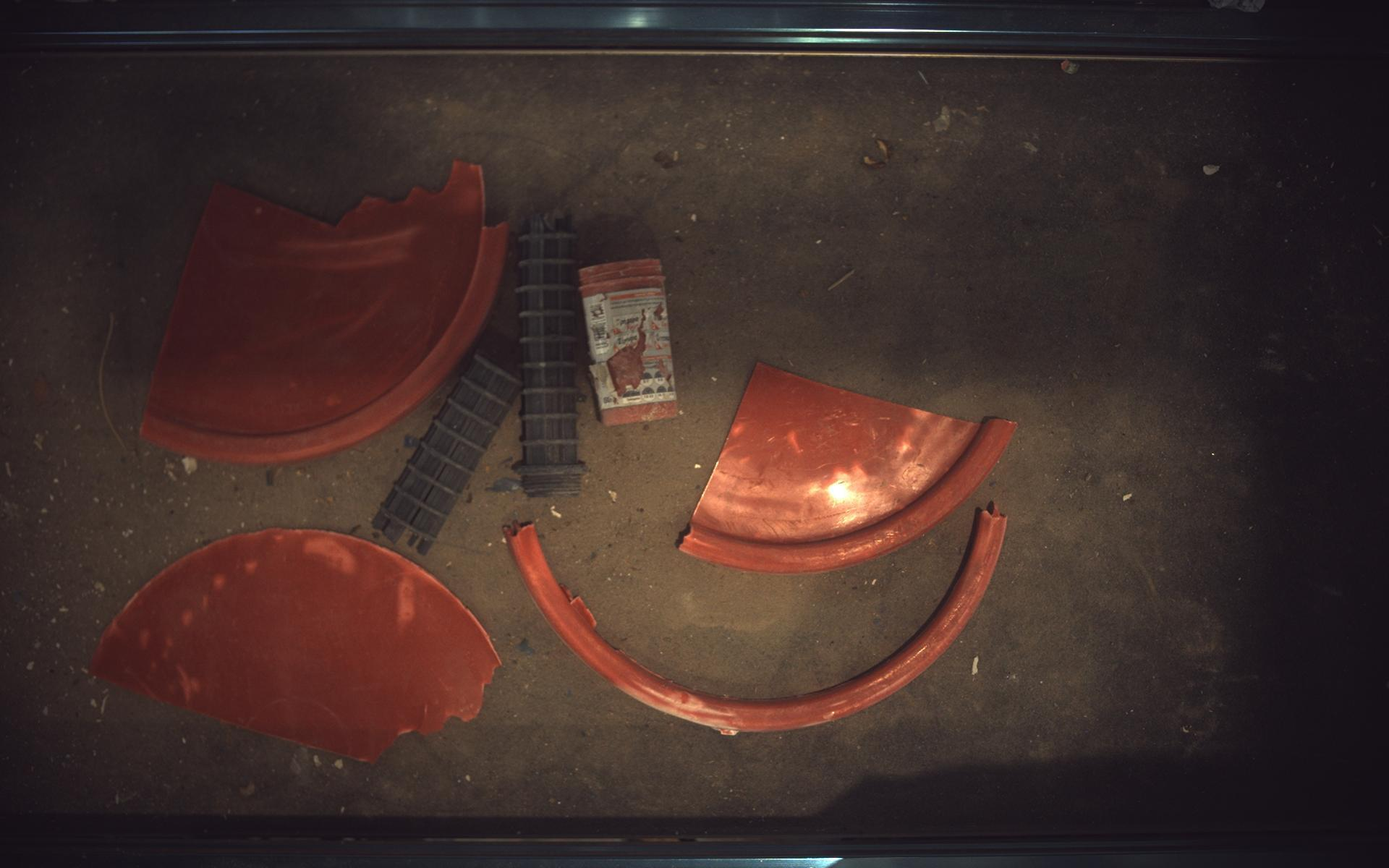plastic: (505, 506, 1009, 736), (140, 160, 508, 464), (90, 529, 500, 763), (681, 363, 1019, 574), (371, 331, 522, 556), (517, 213, 587, 498), (579, 259, 679, 425)
